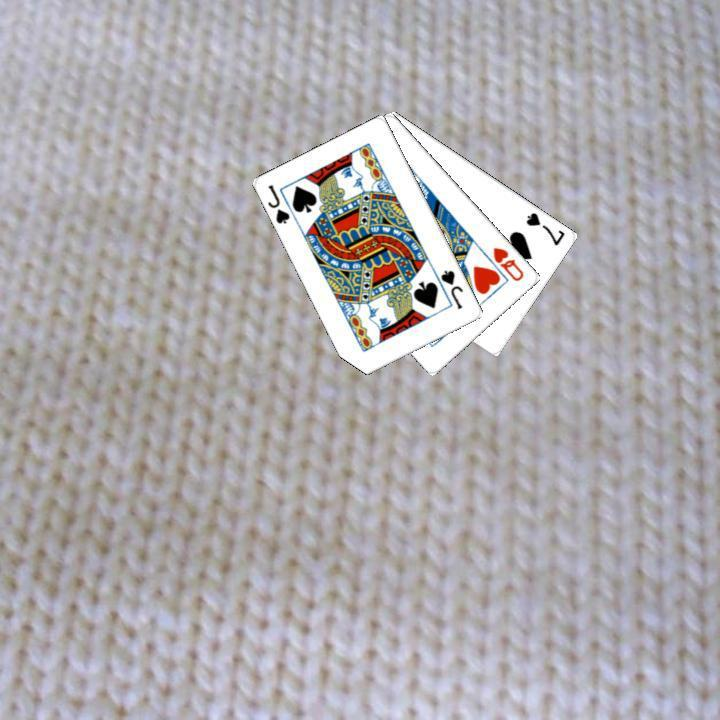7: (522, 208, 568, 248)
J: (436, 265, 465, 311), (264, 180, 292, 226)
Q: (489, 243, 526, 283)
